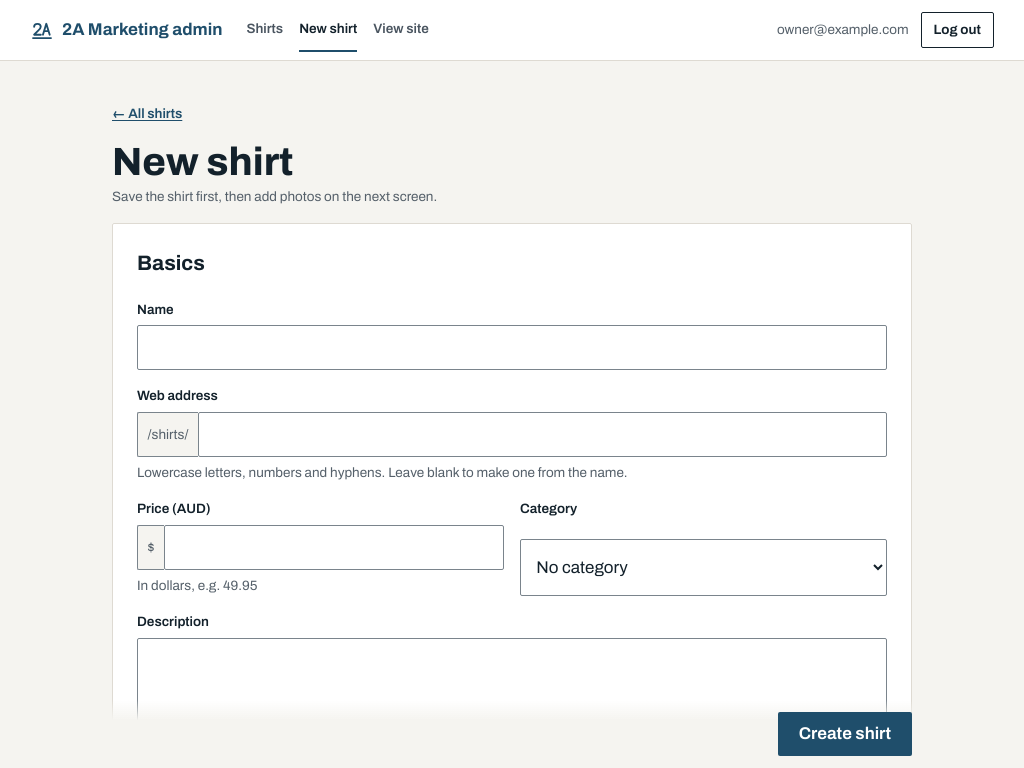
Test: product editor › shows VALIDATION_FAILED details next to the matching inputs
This screenshot has width=1024, height=768.
Type "Vintage Racer No. 81 Tee" into the field labelled "Name" at (512, 348), box [137, 325, 887, 370]
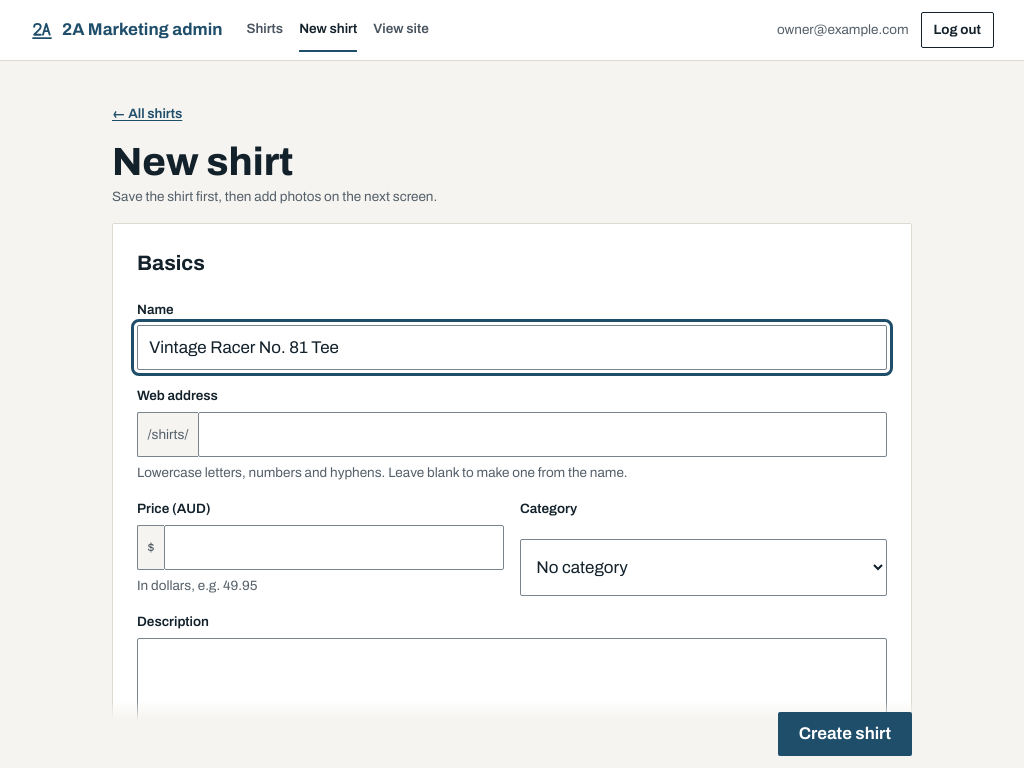
Type "49.95" into the field labelled "Price (AUD)" at (334, 548), box [164, 525, 504, 570]
(page scrolled)
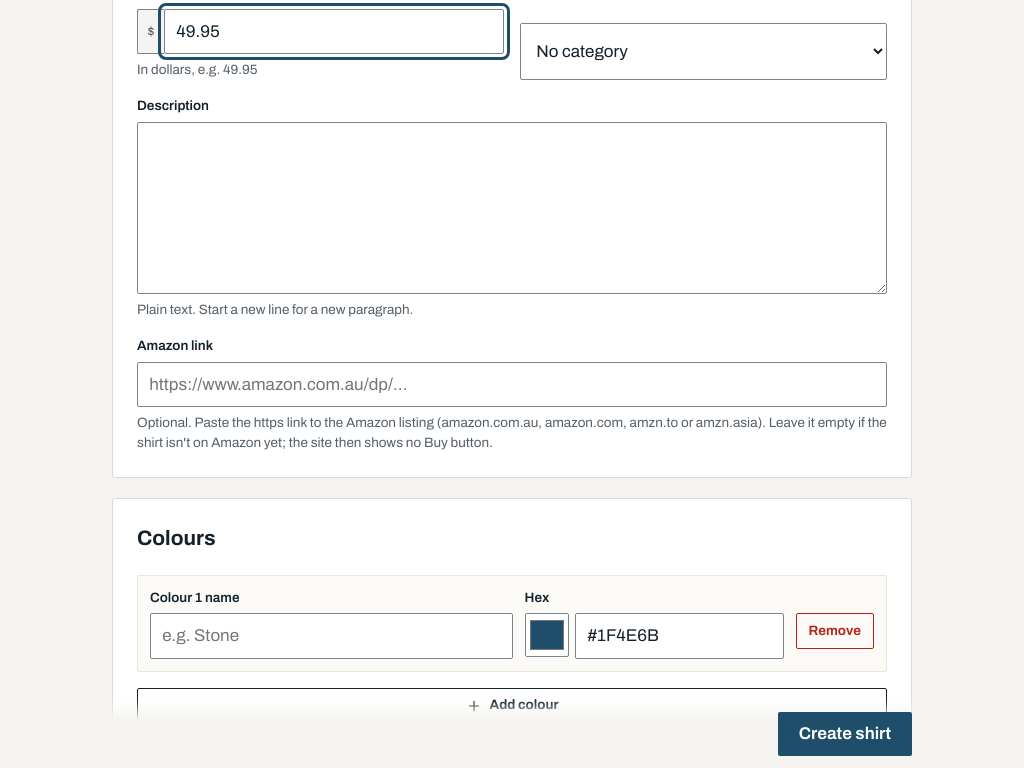
Type "https://www.amazon.com.au/dp/B0TEST" into the field labelled "Amazon link" at (512, 385), box [137, 362, 887, 407]
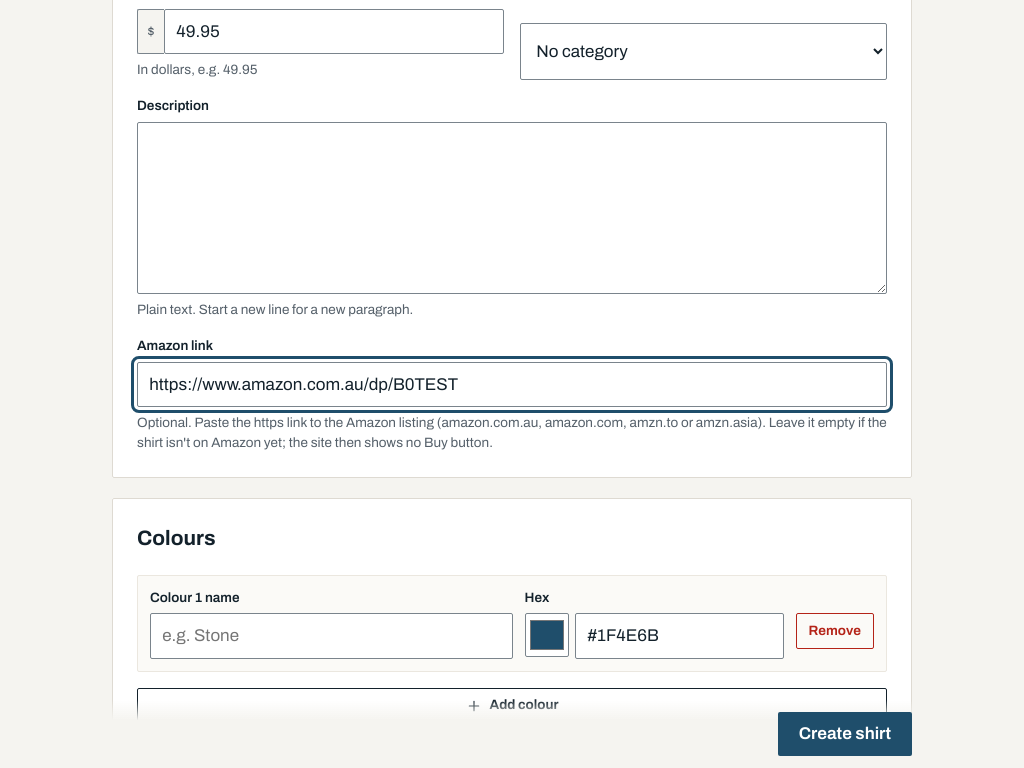
Type "Stone" into the field labelled "Colour 1 name" at (331, 636), box [150, 614, 513, 659]
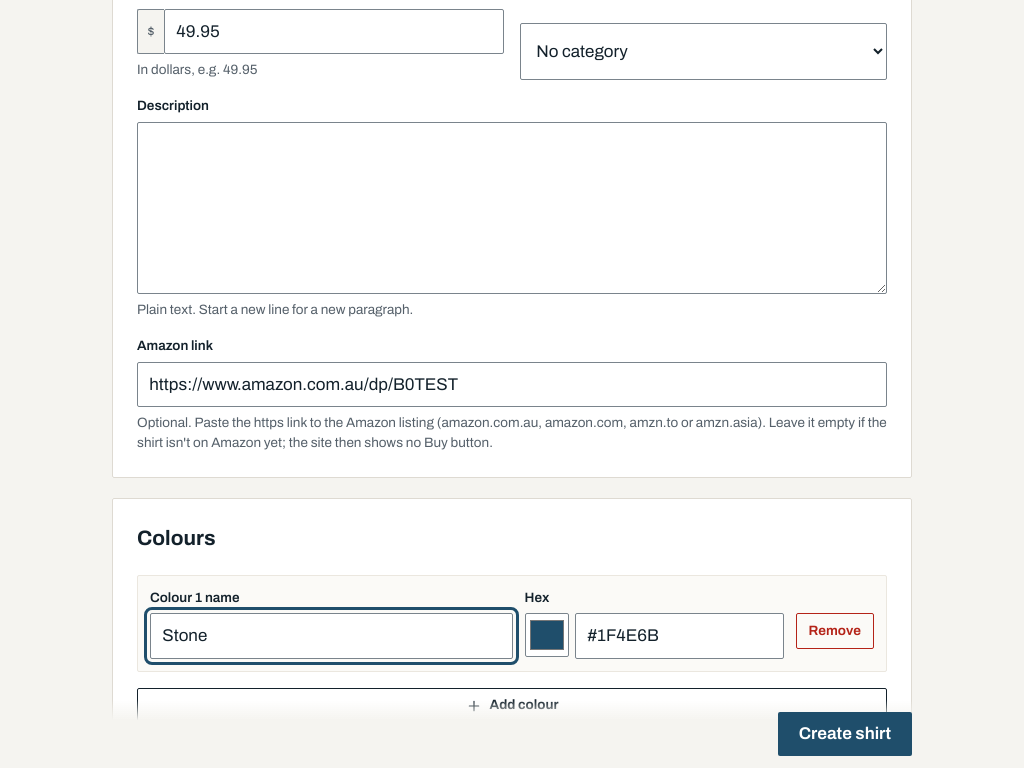
Click the button "Create shirt" at (845, 734), box [778, 712, 912, 756]
(page scrolled)
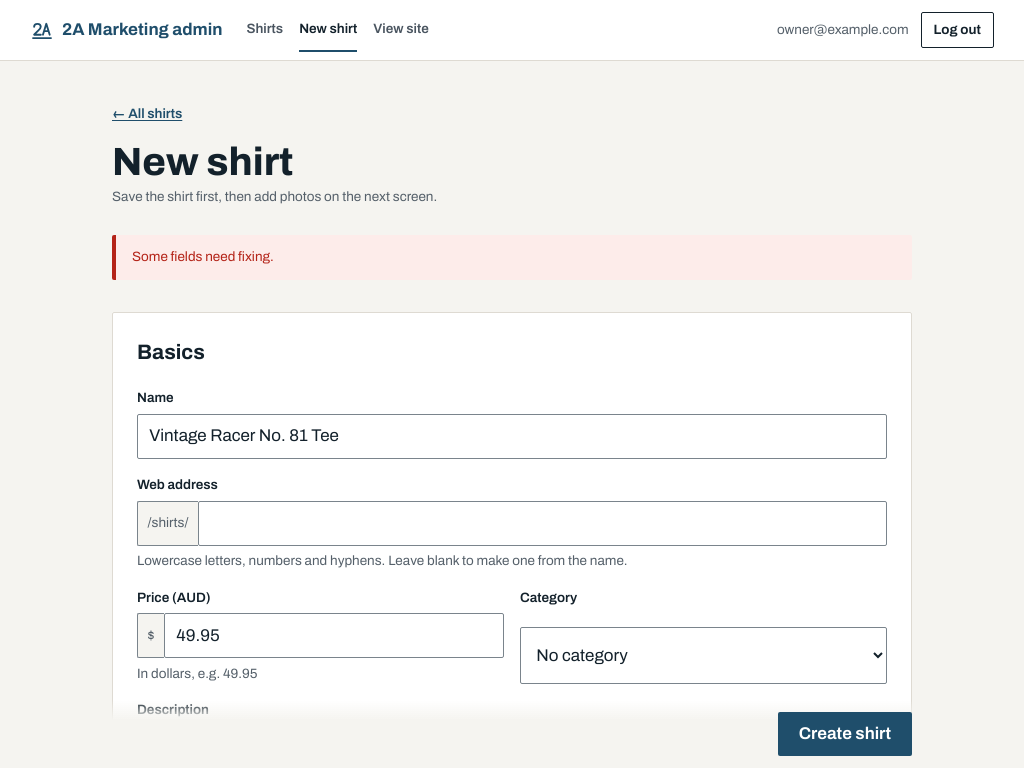
Expected: the message reads "Some fields need fixing.", [132, 249, 274, 264]
